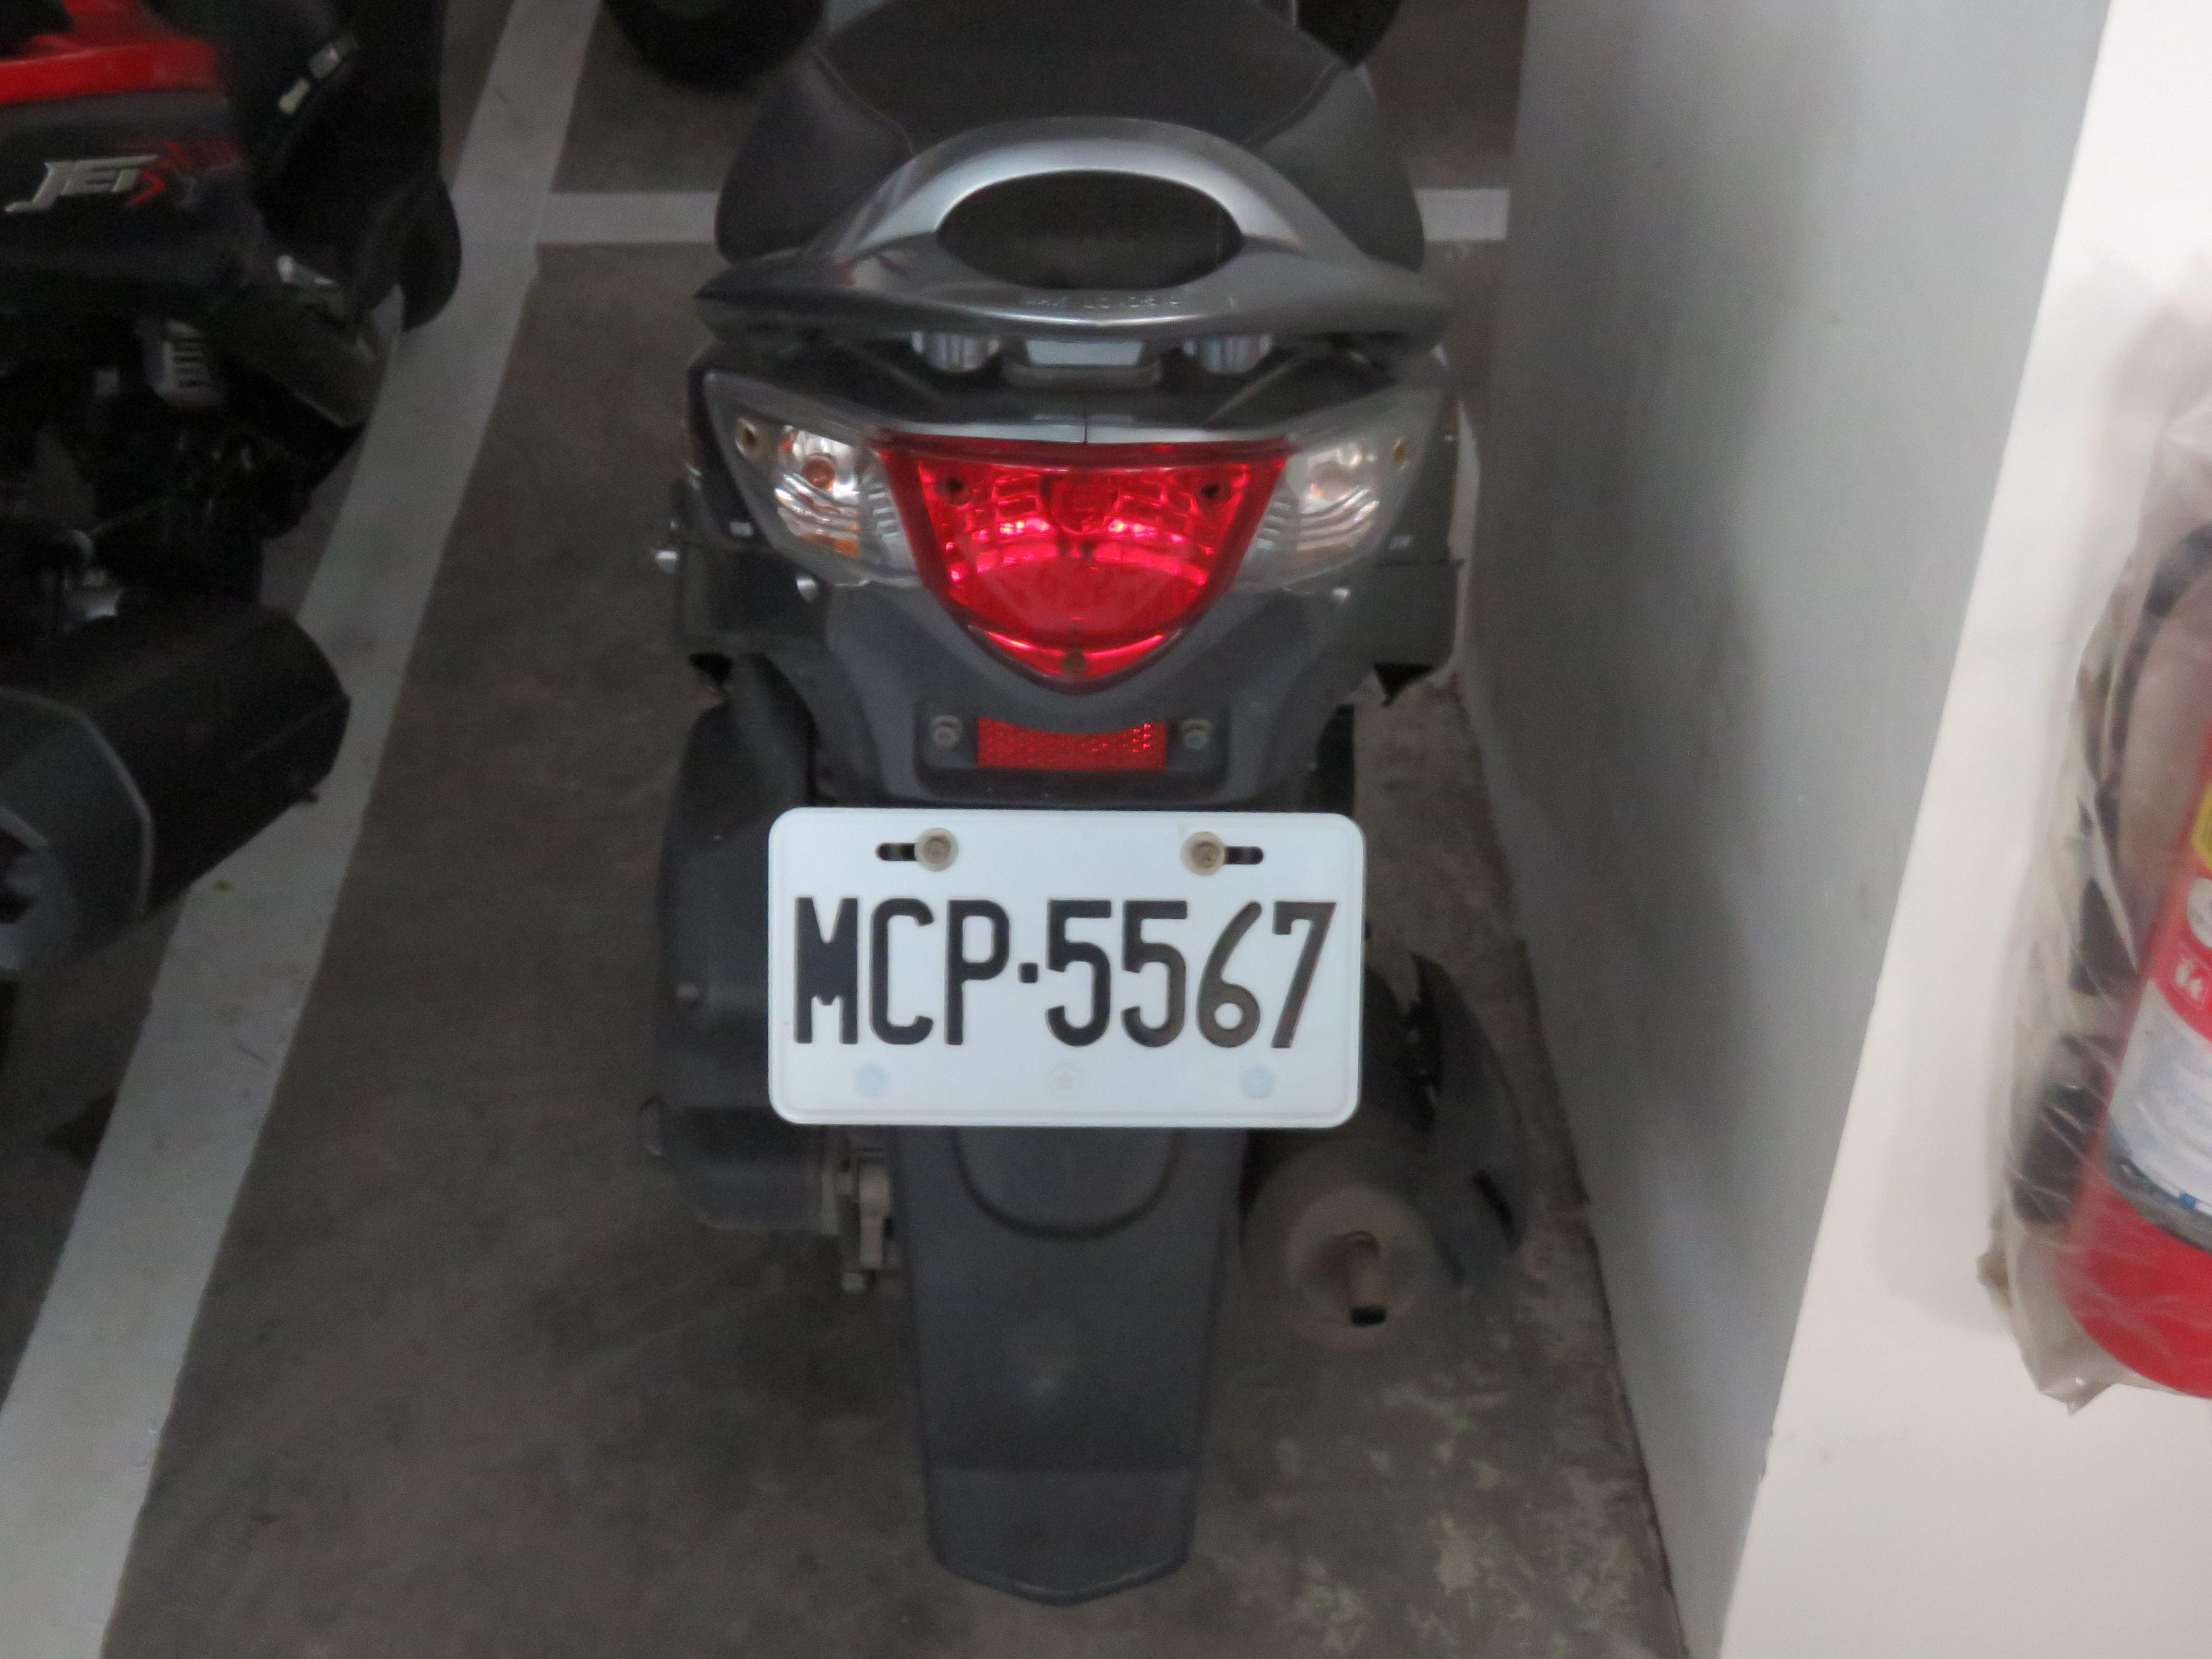car_card: (761, 807, 1374, 1140)
moto: (639, 115, 1477, 1617)
